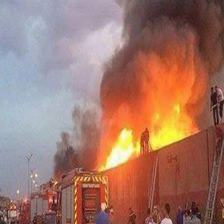fire: (92, 1, 204, 170)
